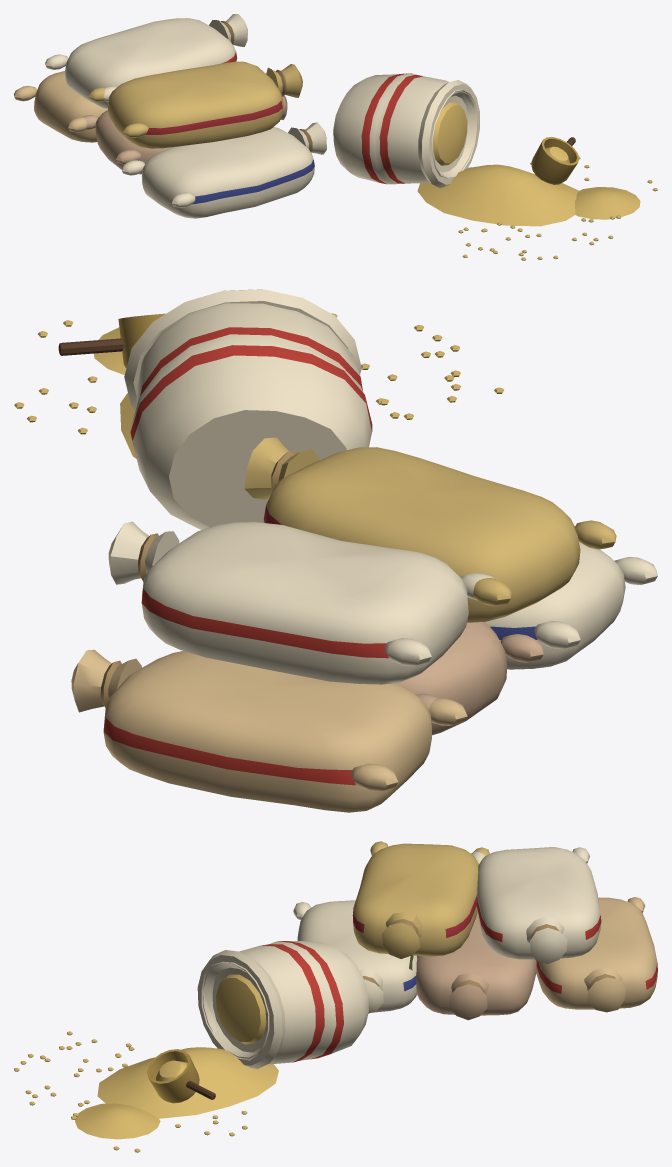
The model's file is deco_feed_sacks.fbx.
3 renders of one model, top to bottom at view 1: azimuth 30°, elevation 25°; view 2: azimuth 150°, elevation 25°; view 3: azimuth 270°, elevation 25°, orthographic. The views are drawn at different scales.
Visible parts, largest first — view 1: FeedSacks_Sacks, FeedSacks_OpenSack, FeedSacks_Spill, FeedSacks_Scoop; view 2: FeedSacks_Sacks, FeedSacks_OpenSack, FeedSacks_Spill, FeedSacks_Scoop; view 3: FeedSacks_Sacks, FeedSacks_OpenSack, FeedSacks_Spill, FeedSacks_Scoop.
Part boxes in pixels (left/top/right/bottom): FeedSacks_Sacks: left=14, top=14, right=326, bottom=218; FeedSacks_OpenSack: left=333, top=73, right=479, bottom=187; FeedSacks_Spill: left=417, top=156, right=657, bottom=260; FeedSacks_Scoop: left=531, top=137, right=579, bottom=184; FeedSacks_Sacks: left=71, top=437, right=657, bottom=812; FeedSacks_OpenSack: left=124, top=289, right=372, bottom=529; FeedSacks_Spill: left=14, top=313, right=503, bottom=458; FeedSacks_Scoop: left=58, top=313, right=165, bottom=368; FeedSacks_Sacks: left=293, top=841, right=657, bottom=1020; FeedSacks_OpenSack: left=197, top=941, right=368, bottom=1068; FeedSacks_Spill: left=14, top=1031, right=278, bottom=1152; FeedSacks_Scoop: left=147, top=1049, right=215, bottom=1103.
Bounding box in the file's own units: 276 × 63.55 × 328.
